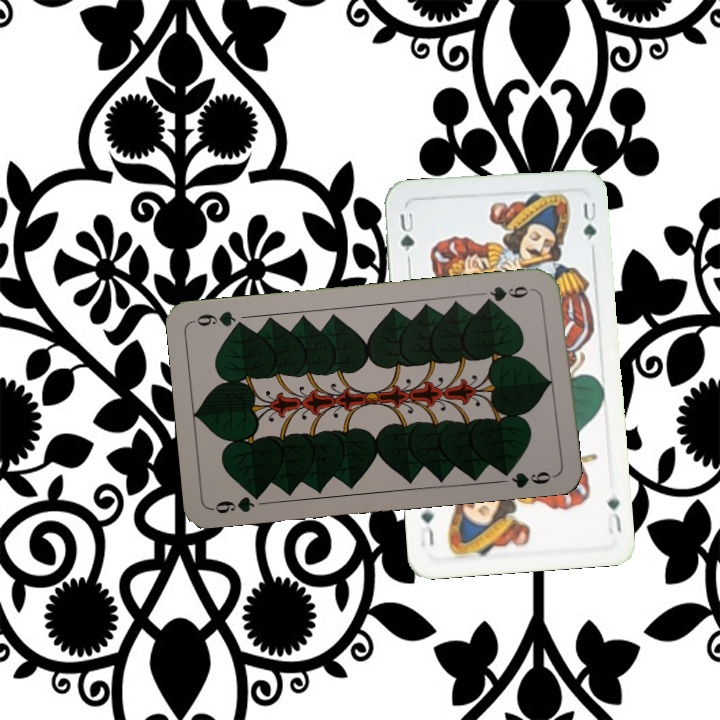G9: (208, 487, 266, 517), (480, 282, 538, 307)
GU: (395, 208, 418, 254), (603, 489, 624, 536)
